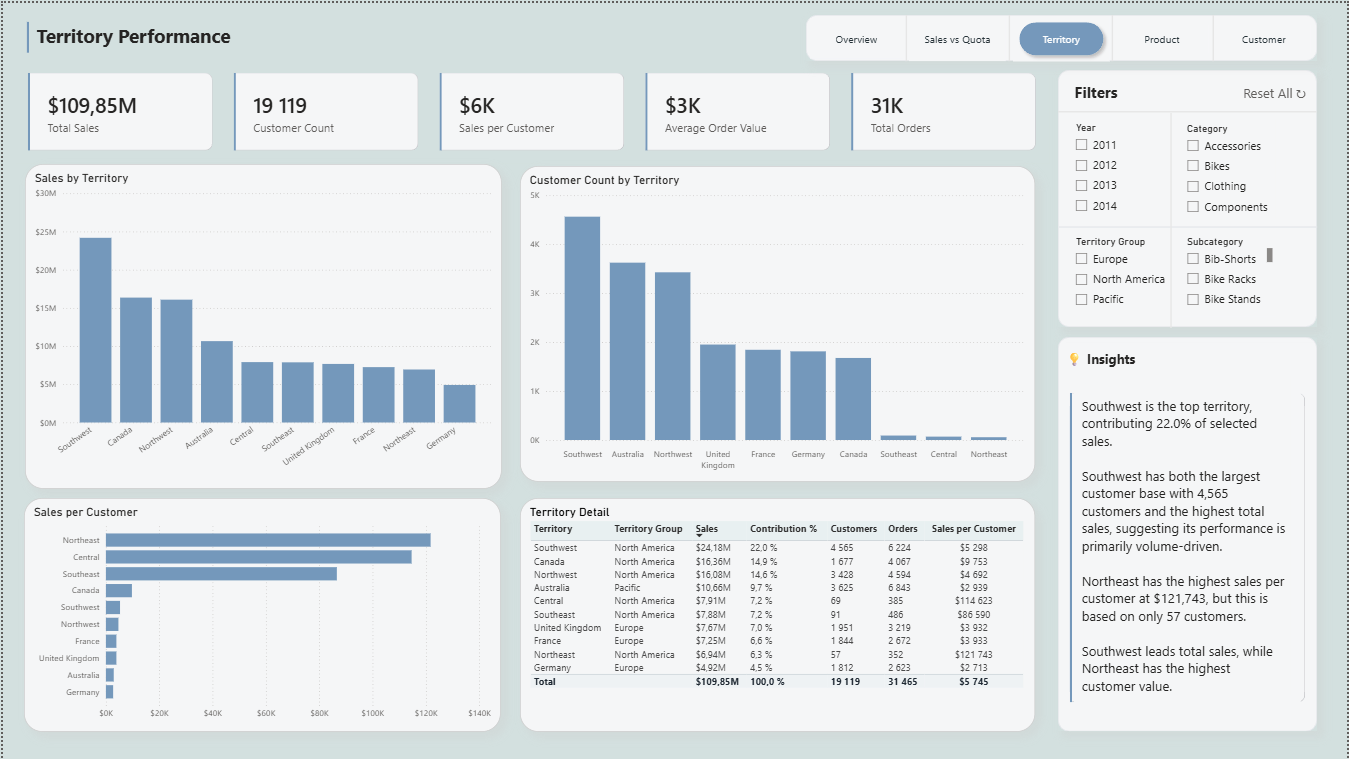

Layout of this report page (visuals, bound fields, positions):
{"tool":"powerbi","page":{"name":"3: Territory Performance","canvas":[1920,1080],"ordinal":2},"visuals":[{"type":"shape","box":[1147.1,17.7,730,65.6],"z":0,"group":"g6"},{"type":"group","id":"g1","title":"Group 4","box":[1153.2,18.4,715.1,65.3],"z":0,"group":"g5"},{"type":"actionButton","title":"Sales vs Quota","box":[1294.9,20.3,138.4,62.6],"z":0,"group":"g1"},{"type":"shape","box":[1507.1,477.1,370.1,563.4],"z":0,"group":"g2"},{"type":"shape","box":[0,0,1920,1080],"z":500},{"type":"shape","box":[1284.9,17.1,12.5,66],"z":1000,"group":"g5"},{"type":"actionButton","title":"Sales vs Quota","box":[1443.1,18.4,138.2,65.3],"z":1000,"group":"g1"},{"type":"shape","box":[1507.4,95.7,369.7,367.1],"z":1000,"group":"g3"},{"type":"group","id":"g2","title":"Group 2","box":[1507.1,477.1,370.1,563.4],"z":1000},{"type":"shape","box":[1432.1,17.5,12.5,66.2],"z":2000,"group":"g5"},{"type":"actionButton","title":"Sales vs Quota","box":[1153.2,20.9,132.9,57.9],"z":2000,"group":"g1"},{"type":"group","id":"g3","title":"Group 1","box":[1507.1,95.7,370,367.1],"z":2000},{"type":"textbox","box":[1513.1,489.8,215.8,38],"z":2000,"group":"g2"},{"type":"shape","box":[1578.9,17.5,12.5,66.2],"z":3000,"group":"g5"},{"type":"actionButton","title":"Sales vs Quota","box":[1588.8,30.6,134.3,40],"z":3000,"group":"g1"},{"type":"cardVisual","fields":{"Data":["Measures (2).Total Sales","Measures (2).Customer Count","Measures (2).Sales per Customer","Measures (2).Average Order Value","Measures (2).Total Orders"]},"box":[18.6,82.9,1475.7,145.7],"z":3000},{"type":"actionButton","title":"Sales vs Quota","box":[1734.2,30.8,134.1,40],"z":4000,"group":"g1"},{"type":"columnChart","fields":{"Category":["dim_territory.TerritoryName"],"Y":["Measures (2).Total Sales"]},"box":[31,230,681.4,464.3],"z":4000},{"type":"columnChart","fields":{"Category":["dim_territory.TerritoryName"],"Y":["Measures (2).Customer Count"]},"box":[738.6,232.9,735.7,451.4],"z":5000},{"type":"shape","box":[1508.1,302.5,368.8,34.4],"z":5000,"group":"g3"},{"type":"slicer","fields":{"Values":["dim_date.Year"]},"box":[1520.4,165,127.1,143.6],"z":6000,"group":"g3"},{"type":"barChart","title":"Sales per Customer","fields":{"Category":["dim_territory.TerritoryName"],"Y":["Measures (2).Sales per Customer"]},"box":[30,707.1,681.4,334.3],"z":6000},{"type":"slicer","fields":{"Values":["dim_territory.TerritoryGroup"]},"box":[1520.4,327.3,201.7,115.4],"z":7000,"group":"g3"},{"type":"cardVisual","fields":{"Data":["Text.P4 - Product Summary"]},"box":[1506.7,540,370,476.7],"z":7000},{"type":"textbox","box":[1520.2,107.6,153.9,45],"z":8000,"group":"g3"},{"type":"tableEx","title":"Territory Detail","fields":{"Values":["dim_territory.TerritoryName","dim_territory.TerritoryGroup","Measures (2).Total Sales","Measures (2).Sales Contribution %","Measures (2).Customer Count","Measures (2).Total Orders","Measures (2).Sales per Customer"]},"box":[738.6,707.1,735.7,334.3],"z":8000},{"type":"group","id":"g4","title":"Group 6","box":[1153.2,17.1,715.1,66.8],"z":9000,"group":"g6"},{"type":"shape","box":[1723,17.6,12.3,66.4],"z":9000,"group":"g4"},{"type":"actionButton","title":"Reset All   ↻","box":[1763.6,111.8,101.7,30],"z":9000,"group":"g3"},{"type":"slicer","fields":{"Values":["dim_product.CategoryName"]},"box":[1678.7,165.3,139.3,143.3],"z":9000},{"type":"group","id":"g5","title":"Group 5","box":[1153.2,17.1,715.1,66.6],"z":10000,"group":"g4"},{"type":"shape","box":[1507.1,139.6,369.5,30.7],"z":10000,"group":"g3"},{"type":"shape","box":[1664,156.7,8.7,306.7],"z":10000},{"type":"slicer","fields":{"Values":["dim_product.SubCategoryName"]},"box":[1678.3,327.5,140,120.8],"z":11000},{"type":"cardVisual","fields":{"Data":["Text.Sales reached $109,85M"]},"box":[16.8,10.5,406.8,78.2],"z":12000},{"type":"textbox","box":[42.9,23.1,388.4,53.2],"z":13000},{"type":"tableEx","fields":{"Values":["Insights.Insight P3"]},"box":[1530,528.3,324.2,494.2],"z":14000},{"type":"group","id":"g6","title":"Group 7","box":[1147.1,17.1,730,66.8],"z":15000}]}

Visuals, with their boxes in screenshot pixels (x1, y1, x2, y2), scaled from the page's 1920x1080 canvas onto the 1349x759 screenshot:
shape: (806, 12, 1319, 59)
"Group 4" group: (810, 13, 1313, 59)
"Sales vs Quota" actionButton: (910, 14, 1007, 58)
shape: (1059, 335, 1319, 731)
shape: (0, 0, 1348, 758)
shape: (903, 12, 912, 58)
"Sales vs Quota" actionButton: (1014, 13, 1111, 59)
shape: (1059, 67, 1319, 325)
"Group 2" group: (1059, 335, 1319, 731)
shape: (1006, 12, 1015, 59)
"Sales vs Quota" actionButton: (810, 15, 904, 55)
"Group 1" group: (1059, 67, 1319, 325)
textbox: (1063, 344, 1215, 371)
shape: (1109, 12, 1118, 59)
"Sales vs Quota" actionButton: (1116, 22, 1211, 50)
cardVisual - Measures (2).Total Sales x Measures (2).Customer Count: (13, 58, 1050, 161)
"Sales vs Quota" actionButton: (1218, 22, 1313, 50)
columnChart - dim_territory.TerritoryName x Measures (2).Total Sales: (22, 162, 501, 488)
columnChart - dim_territory.TerritoryName x Measures (2).Customer Count: (519, 164, 1036, 481)
shape: (1060, 213, 1319, 237)
slicer - dim_date.Year: (1068, 116, 1158, 217)
"Sales per Customer" barChart: (21, 497, 500, 732)
slicer - dim_territory.TerritoryGroup: (1068, 230, 1210, 311)
cardVisual - Text.P4 - Product Summary: (1059, 379, 1319, 715)
textbox: (1068, 76, 1176, 107)
"Territory Detail" tableEx: (519, 497, 1036, 732)
"Group 6" group: (810, 12, 1313, 59)
shape: (1211, 12, 1219, 59)
"Reset All   ↻" actionButton: (1239, 79, 1311, 100)
slicer - dim_product.CategoryName: (1179, 116, 1277, 217)
"Group 5" group: (810, 12, 1313, 59)
shape: (1059, 98, 1319, 120)
shape: (1169, 110, 1175, 326)
slicer - dim_product.SubCategoryName: (1179, 230, 1278, 315)
cardVisual - Text.Sales reached $109,85M: (12, 7, 298, 62)
textbox: (30, 16, 303, 54)
tableEx - Insights.Insight P3: (1075, 371, 1303, 719)
"Group 7" group: (806, 12, 1319, 59)
